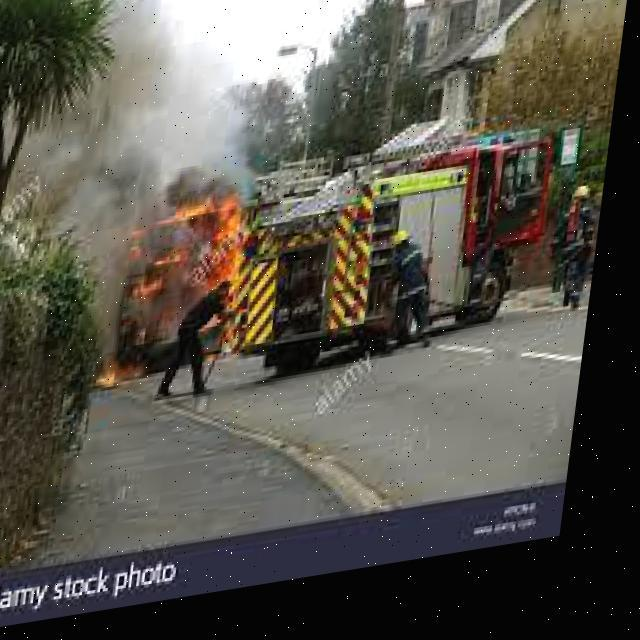Fire: (116, 184, 288, 368)
